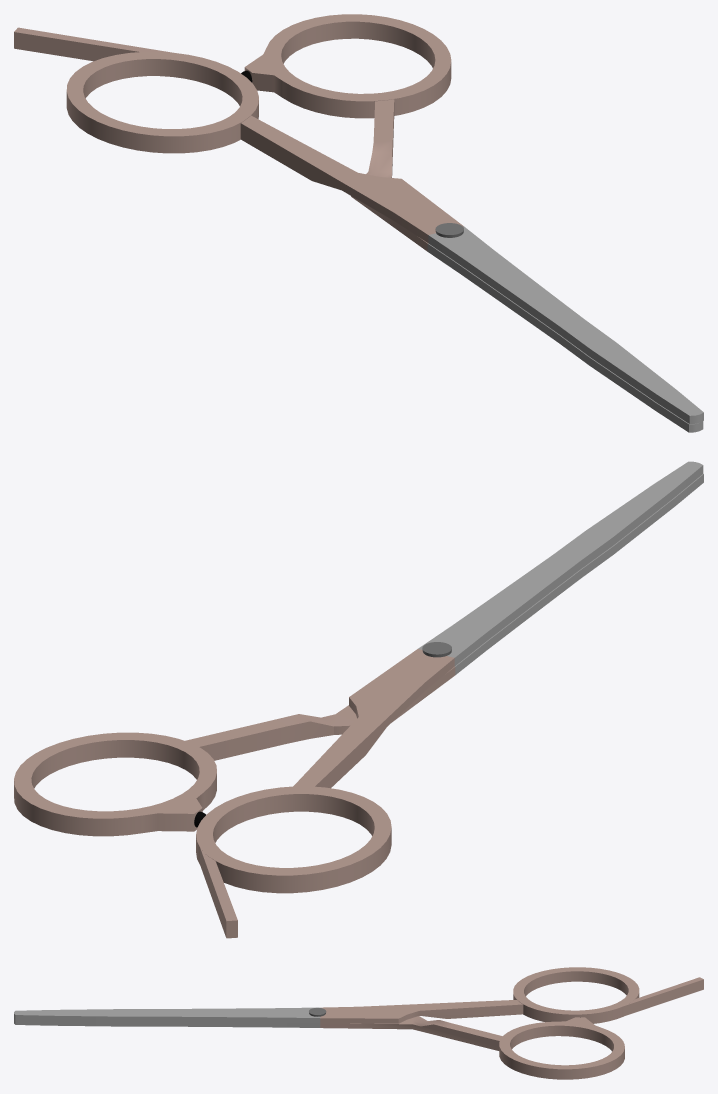
File: eraser.fbx
3 views of the same model, one above another, from view 1: azimuth 30°, elevation 25°; view 2: azimuth 150°, elevation 25°; view 3: azimuth 270°, elevation 25° (orthographic). The views are drawn at different scales.
Parts seen in each view (by area): view 1: pasted__pCube14, pasted__pCylinder17, pasted__pCylinder20, pasted__pCube3, pasted__pCube4; view 2: pasted__pCube14, pasted__pCylinder17, pasted__pCylinder20, pasted__pCube3, pasted__pCube4; view 3: pasted__pCube14, pasted__pCylinder17, pasted__pCube3, pasted__pCylinder20, pasted__pCube4.
Part boxes in pixels (bbox=[...]): pasted__pCube14: bbox=[240, 115, 703, 423]; pasted__pCylinder17: bbox=[244, 14, 451, 118]; pasted__pCylinder20: bbox=[66, 51, 258, 153]; pasted__pCube3: bbox=[351, 99, 703, 432]; pasted__pCube4: bbox=[14, 27, 171, 61]; pasted__pCube14: bbox=[293, 461, 703, 788]; pasted__pCylinder17: bbox=[14, 732, 216, 836]; pasted__pCylinder20: bbox=[196, 786, 391, 893]; pasted__pCube3: bbox=[185, 473, 703, 760]; pasted__pCube4: bbox=[200, 848, 237, 938]; pasted__pCube14: bbox=[14, 1000, 523, 1023]; pasted__pCylinder17: bbox=[499, 1017, 624, 1079]; pasted__pCube3: bbox=[14, 1016, 502, 1050]; pasted__pCylinder20: bbox=[513, 967, 639, 1023]; pasted__pCube4: bbox=[623, 977, 703, 1016].
Bounding box in the file's own units: 9.1 × 0.5718 × 25.99.
